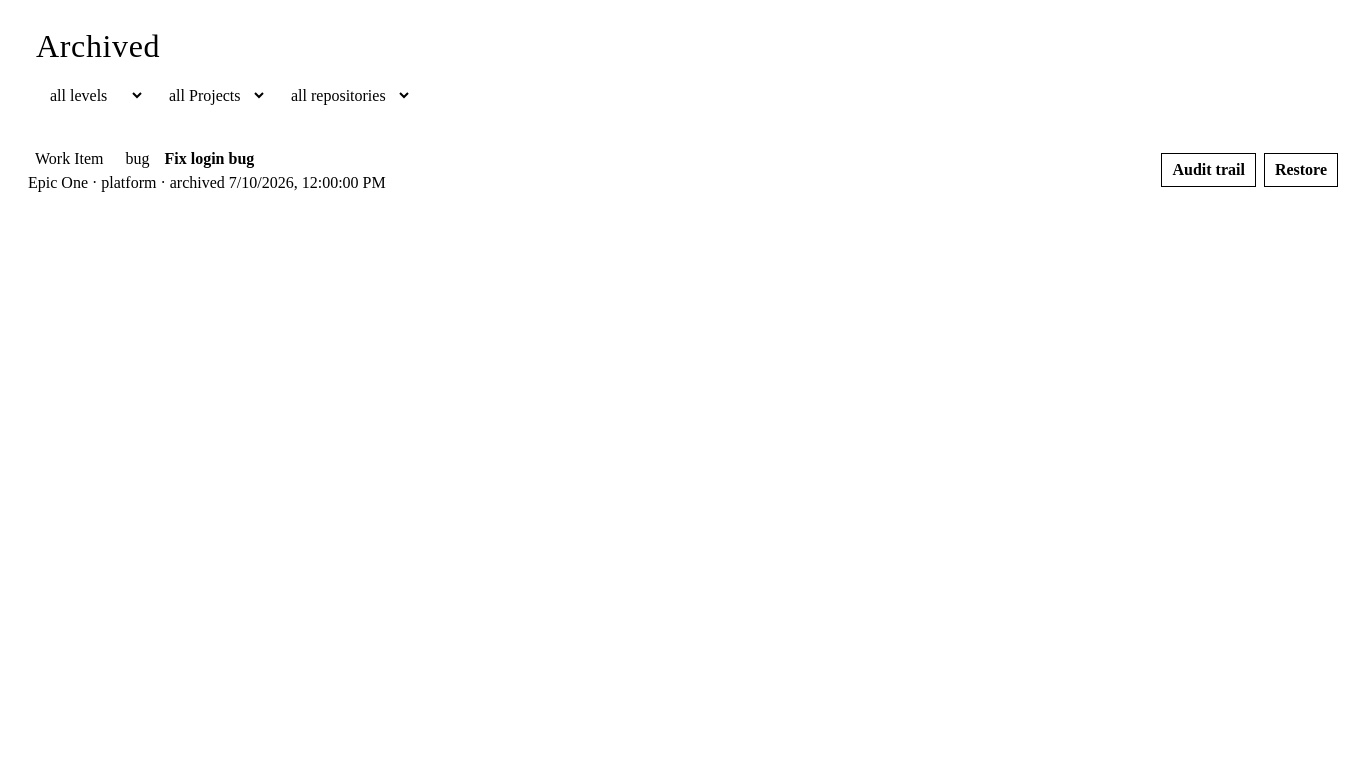
Scenario: ArchivedPage › renders audit events most-recent-first once the server responds
This screenshot has width=1366, height=768.
Click the button "Audit trail".
click(1209, 170)  # box [1161,153,1256,187]
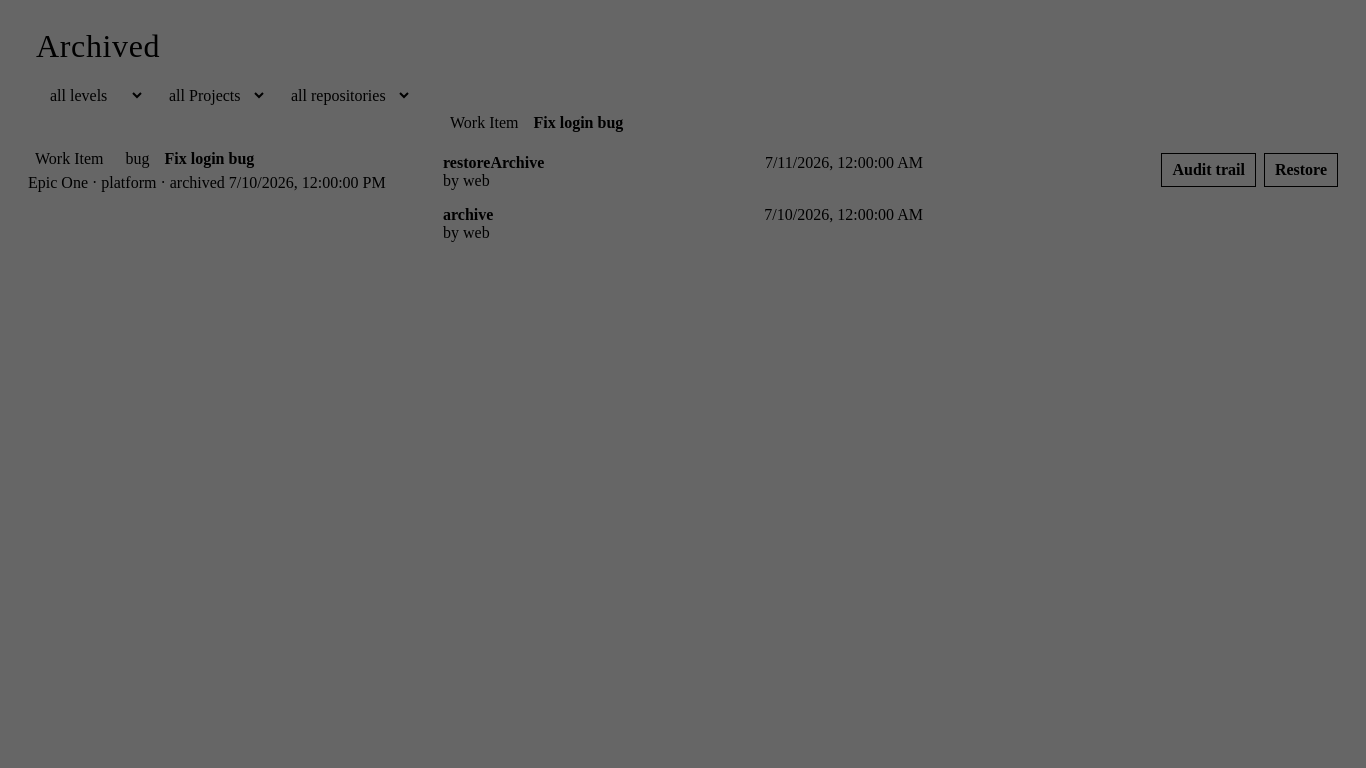
Check: the text "Archive" is shown, box [36,28,160,64]
Check: the text "restoreArchive" is shown, box [443,154,544,172]
